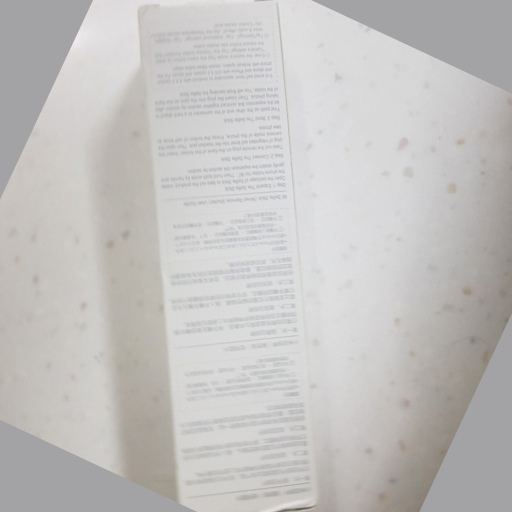Paper_0: (128, 1, 338, 512)
